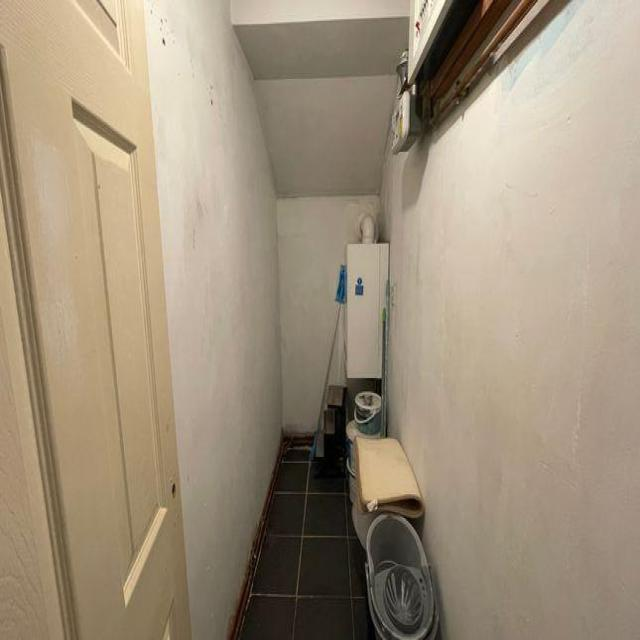Wall: (144, 0, 640, 639), (0, 197, 62, 638), (239, 441, 371, 638), (254, 75, 396, 197), (231, 1, 409, 79)
